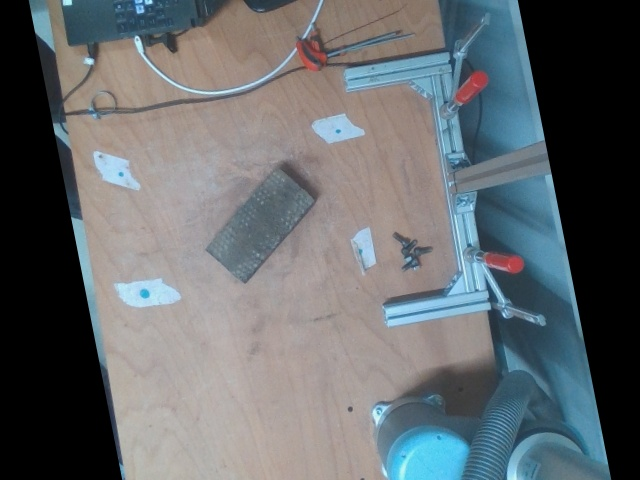brick: (204, 165, 314, 281)
